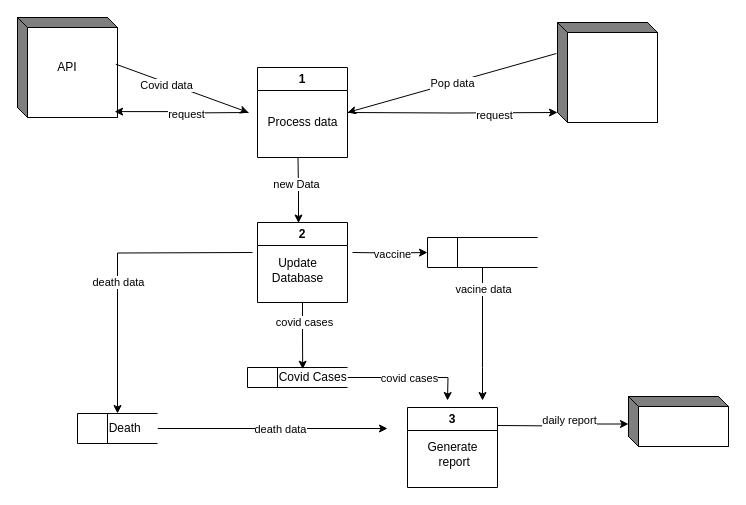
Some shapes in this 746 by 505 pixel diagram are drawn without their labels. The shapes that lost their labels are listed below. From the top down, each one's box as (x1, y1, x2, y2) in pixels, then its label:
(556, 22, 658, 122): Statistics Canada
(426, 236, 538, 268): Vaccinations
(628, 396, 728, 446): Public
